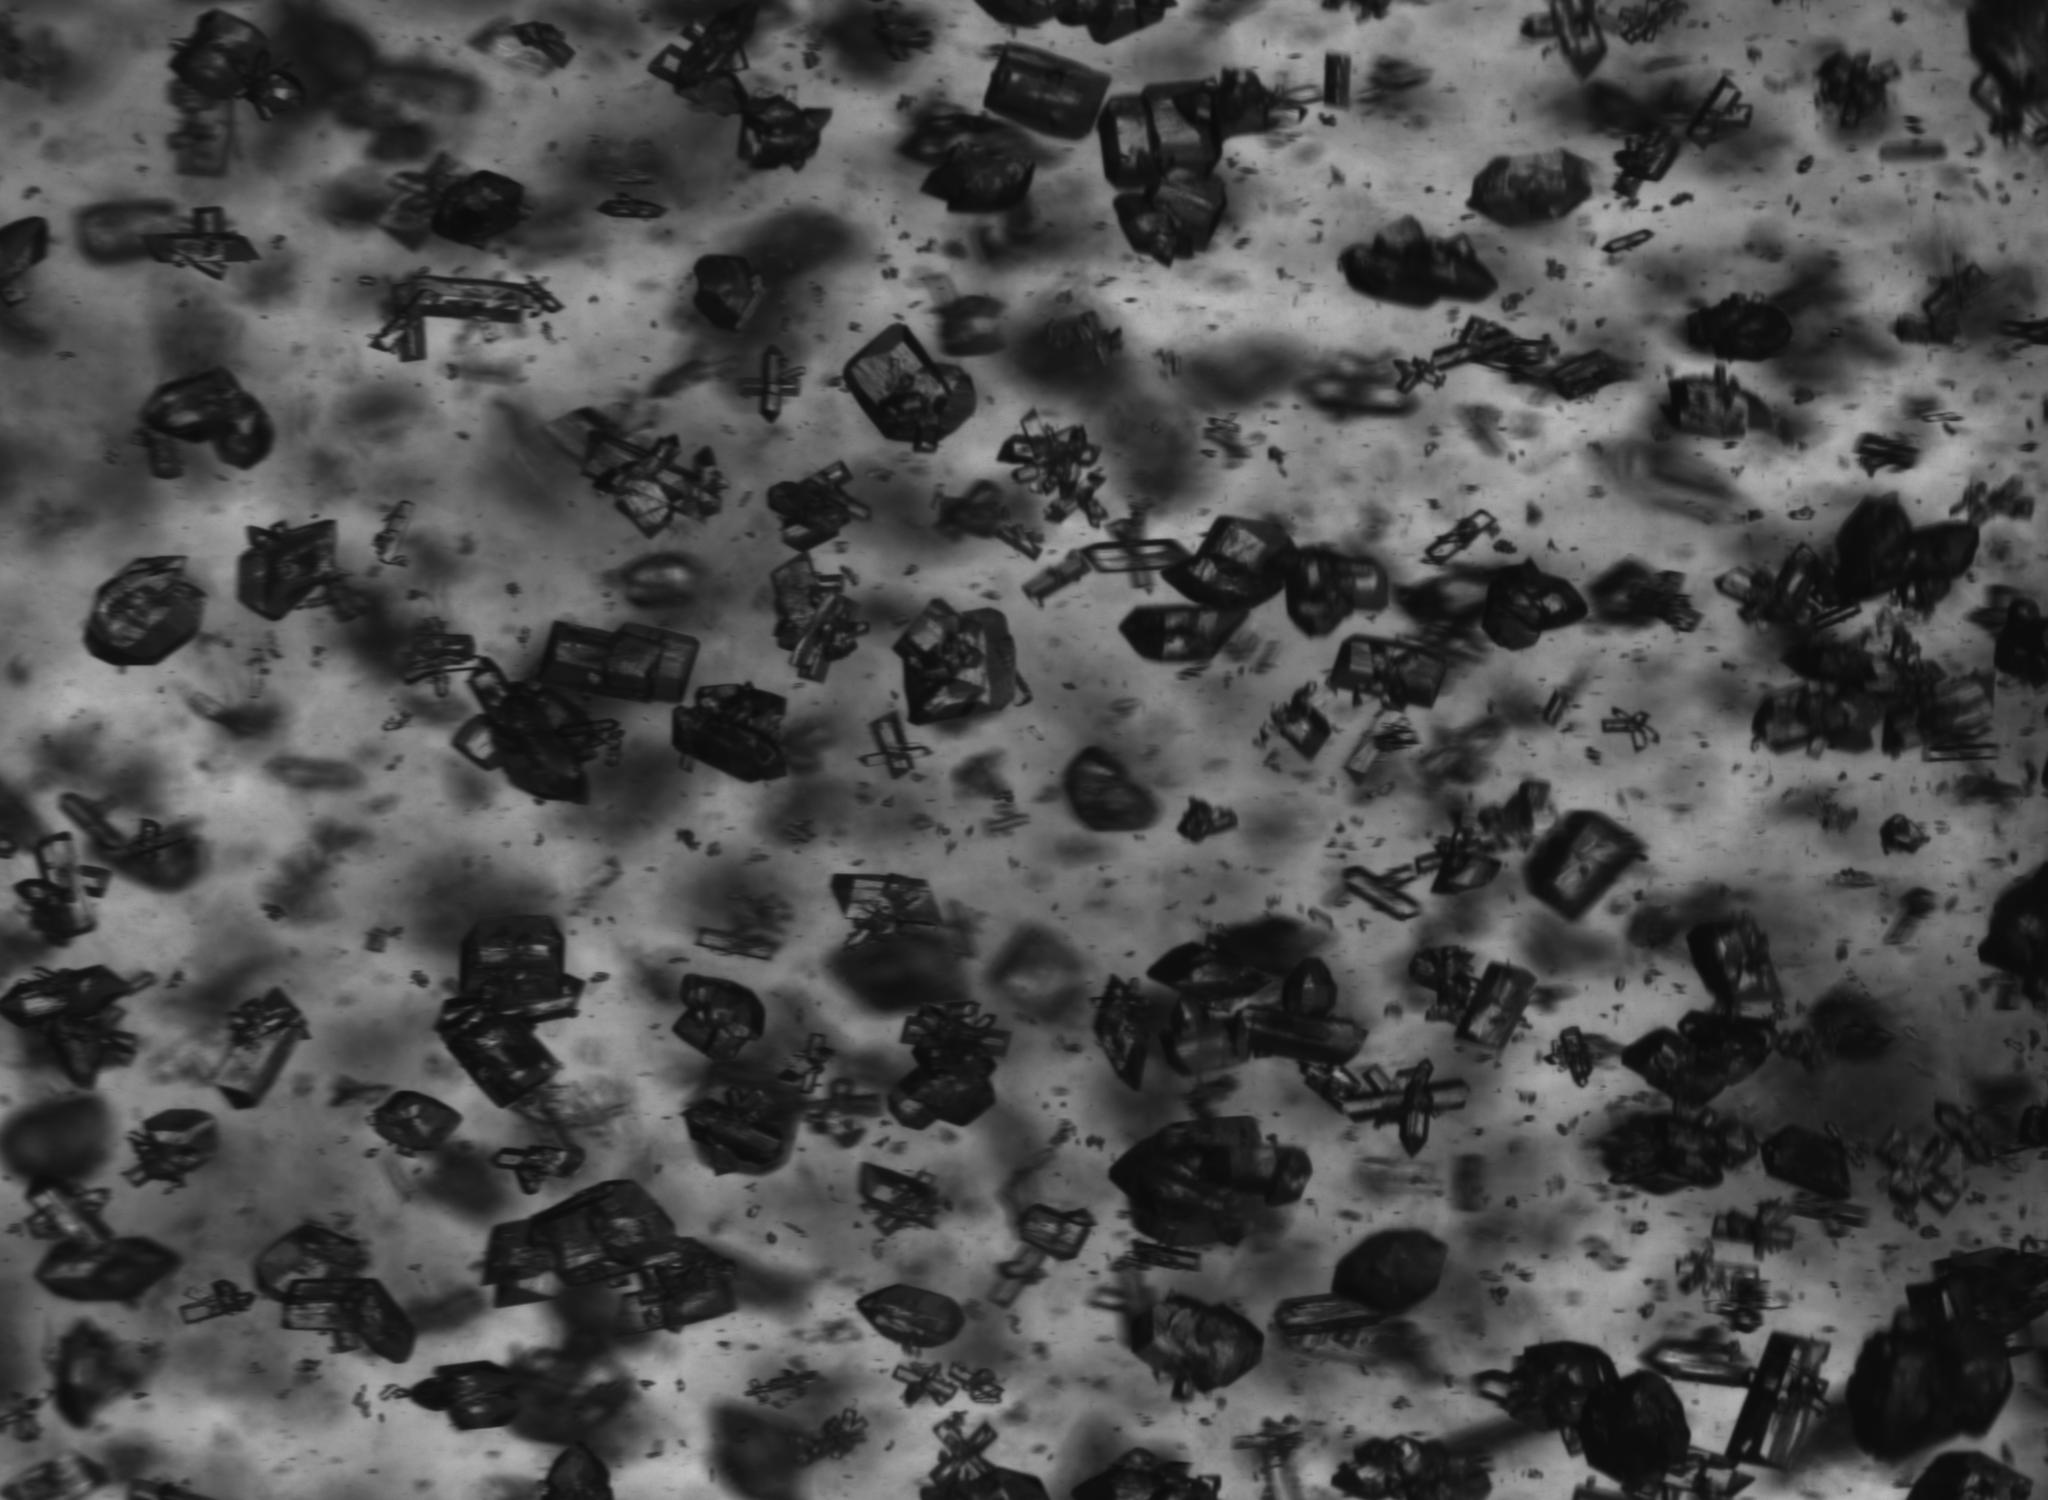crystal: (1846, 1236, 2048, 1460), (1097, 68, 1320, 266), (487, 1180, 735, 1336), (436, 915, 582, 1107), (1110, 1115, 1312, 1249), (455, 657, 619, 803), (256, 1222, 415, 1362), (553, 407, 725, 536), (0, 966, 156, 1088), (841, 323, 976, 452), (372, 272, 561, 361), (894, 601, 1029, 725), (1614, 76, 1749, 200), (887, 999, 1008, 1128), (1301, 1059, 1466, 1153), (902, 110, 1045, 213), (140, 369, 273, 479), (170, 11, 307, 118), (1622, 1012, 1771, 1109), (1727, 1333, 1830, 1468), (1340, 218, 1495, 307), (1719, 546, 1862, 641), (534, 622, 698, 705), (1598, 1109, 1755, 1195), (1574, 1371, 1690, 1487), (1132, 1295, 1264, 1395), (1248, 956, 1366, 1067), (84, 557, 204, 666), (237, 520, 367, 620), (1525, 811, 1644, 919), (1476, 1341, 1616, 1432), (984, 43, 1110, 143), (999, 412, 1108, 527), (1396, 317, 1560, 393), (771, 552, 868, 681), (205, 988, 308, 1107), (1162, 517, 1293, 611), (649, 3, 758, 113), (1962, 0, 2048, 140), (673, 684, 789, 783), (921, 1413, 1051, 1500), (1884, 662, 1996, 760), (14, 832, 110, 945), (684, 1080, 797, 1176), (1684, 915, 1784, 1021), (1332, 1435, 1490, 1500), (1332, 1228, 1447, 1315), (1980, 862, 2048, 1004), (1283, 547, 1391, 636), (1480, 562, 1587, 651), (1468, 150, 1592, 226), (1754, 681, 1886, 752), (766, 461, 868, 552), (1328, 636, 1453, 709), (35, 1238, 178, 1301), (1832, 498, 1916, 603), (975, 0, 1175, 43), (407, 1360, 529, 1430), (1061, 746, 1159, 832), (145, 207, 259, 280), (832, 872, 943, 946), (1119, 604, 1250, 668), (673, 975, 766, 1061), (738, 84, 832, 169), (1658, 367, 1765, 441), (1588, 560, 1700, 630), (1073, 1448, 1221, 1500), (1148, 942, 1270, 1004), (1972, 587, 2048, 686), (1684, 294, 1795, 361), (431, 170, 526, 247), (1159, 999, 1251, 1077), (124, 1109, 218, 1185), (857, 1284, 965, 1349), (1094, 977, 1156, 1090), (1643, 1327, 1754, 1389), (1881, 1134, 1962, 1218), (1905, 520, 1978, 612), (1275, 1290, 1396, 1346), (1460, 964, 1536, 1051), (1762, 1125, 1851, 1199), (1076, 530, 1191, 587), (1409, 945, 1482, 1034), (1816, 49, 1892, 134), (25, 1177, 114, 1249), (859, 1163, 944, 1236), (1906, 1451, 2032, 1500), (369, 1093, 464, 1153), (692, 255, 766, 331), (396, 619, 483, 684), (806, 1075, 886, 1145), (1433, 822, 1501, 896), (1344, 716, 1418, 783), (1711, 1199, 1795, 1258), (1546, 0, 1608, 78), (1546, 1026, 1623, 1086), (1536, 350, 1628, 401), (491, 1144, 584, 1195), (741, 347, 803, 422), (863, 711, 930, 779), (1272, 686, 1332, 759), (1018, 1204, 1096, 1260), (539, 1443, 614, 1500), (1344, 865, 1420, 921), (0, 216, 49, 302), (1425, 509, 1499, 565), (1934, 1102, 2000, 1164), (1022, 549, 1091, 606), (1789, 1193, 1868, 1238), (785, 1032, 835, 1104), (1716, 1268, 1770, 1333), (178, 1279, 256, 1323), (805, 1408, 868, 1462), (506, 21, 574, 68), (1616, 0, 1687, 45), (1884, 886, 1935, 945), (894, 1360, 957, 1406), (1121, 1236, 1200, 1271), (696, 927, 779, 961), (1856, 433, 1919, 474), (1178, 799, 1237, 843), (1600, 708, 1660, 751), (374, 499, 413, 565), (943, 1363, 1003, 1405), (1879, 813, 1930, 853), (596, 192, 666, 220), (1323, 52, 1350, 108), (1603, 227, 1655, 255), (2005, 317, 2048, 347), (1544, 689, 1571, 724), (1833, 867, 1875, 888)
